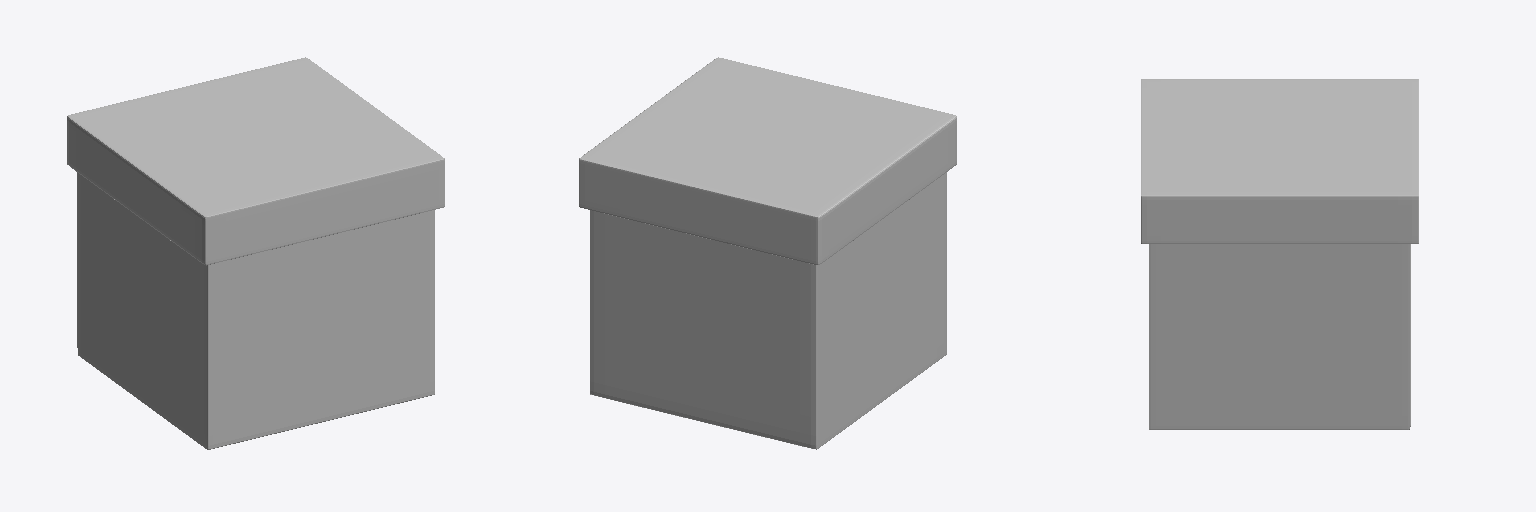
The picture shows the model from 3 angles: view 1: azimuth 30°, elevation 25°; view 2: azimuth 150°, elevation 25°; view 3: azimuth 270°, elevation 25°; orthographic projection.
Parts seen in each view (by area): view 1: present_box_Cube; view 2: present_box_Cube; view 3: present_box_Cube.
Part boxes in pixels (left/top/right/bottom): present_box_Cube: left=67, top=57, right=444, bottom=449; present_box_Cube: left=579, top=57, right=956, bottom=449; present_box_Cube: left=1141, top=79, right=1418, bottom=429.
Size of the model in its own units: 2.12 by 2 by 2.12.